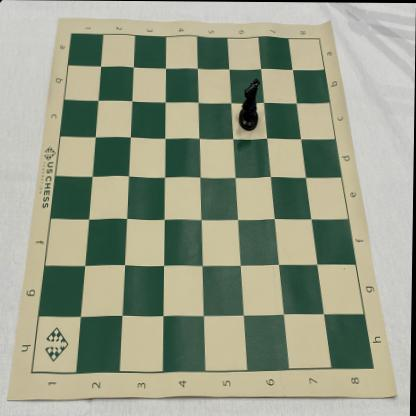black-knight: (238, 77, 261, 132)
